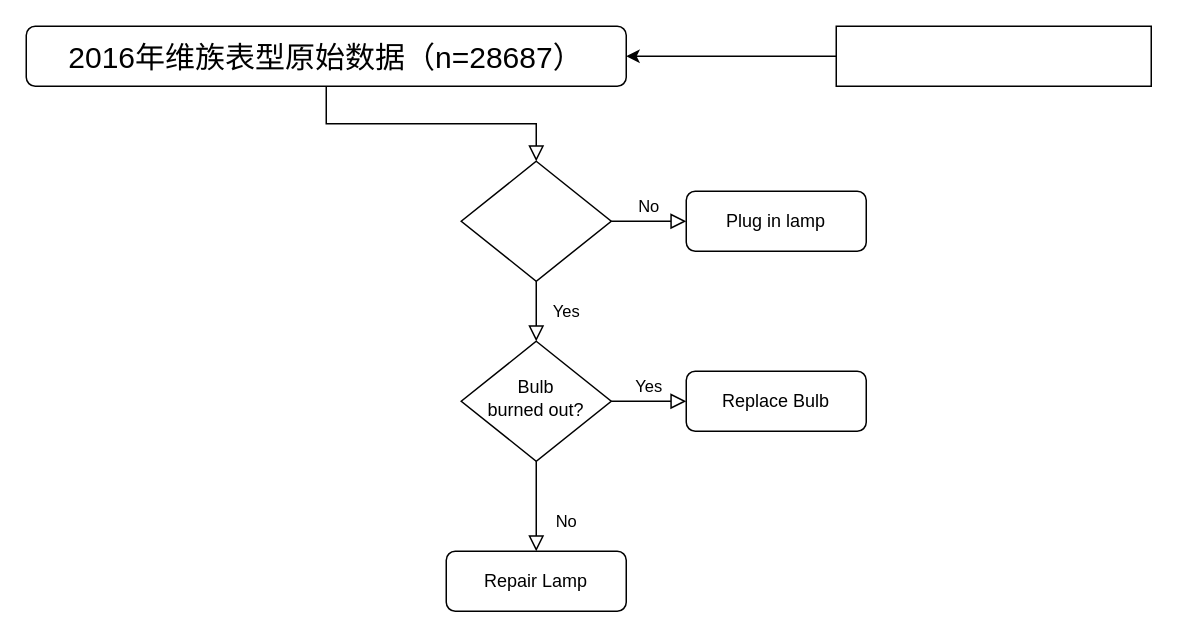
The diagram is 1178 pixels wide and 638 high, and some of its shapes have lost their labels. Here are the shapes that lost their labels. From the top down, the box of each, then its label:
(835, 25, 1151, 86): 大于14岁成人数据库（28687例）.dta
(460, 160, 611, 281): Lamp plugged in?
